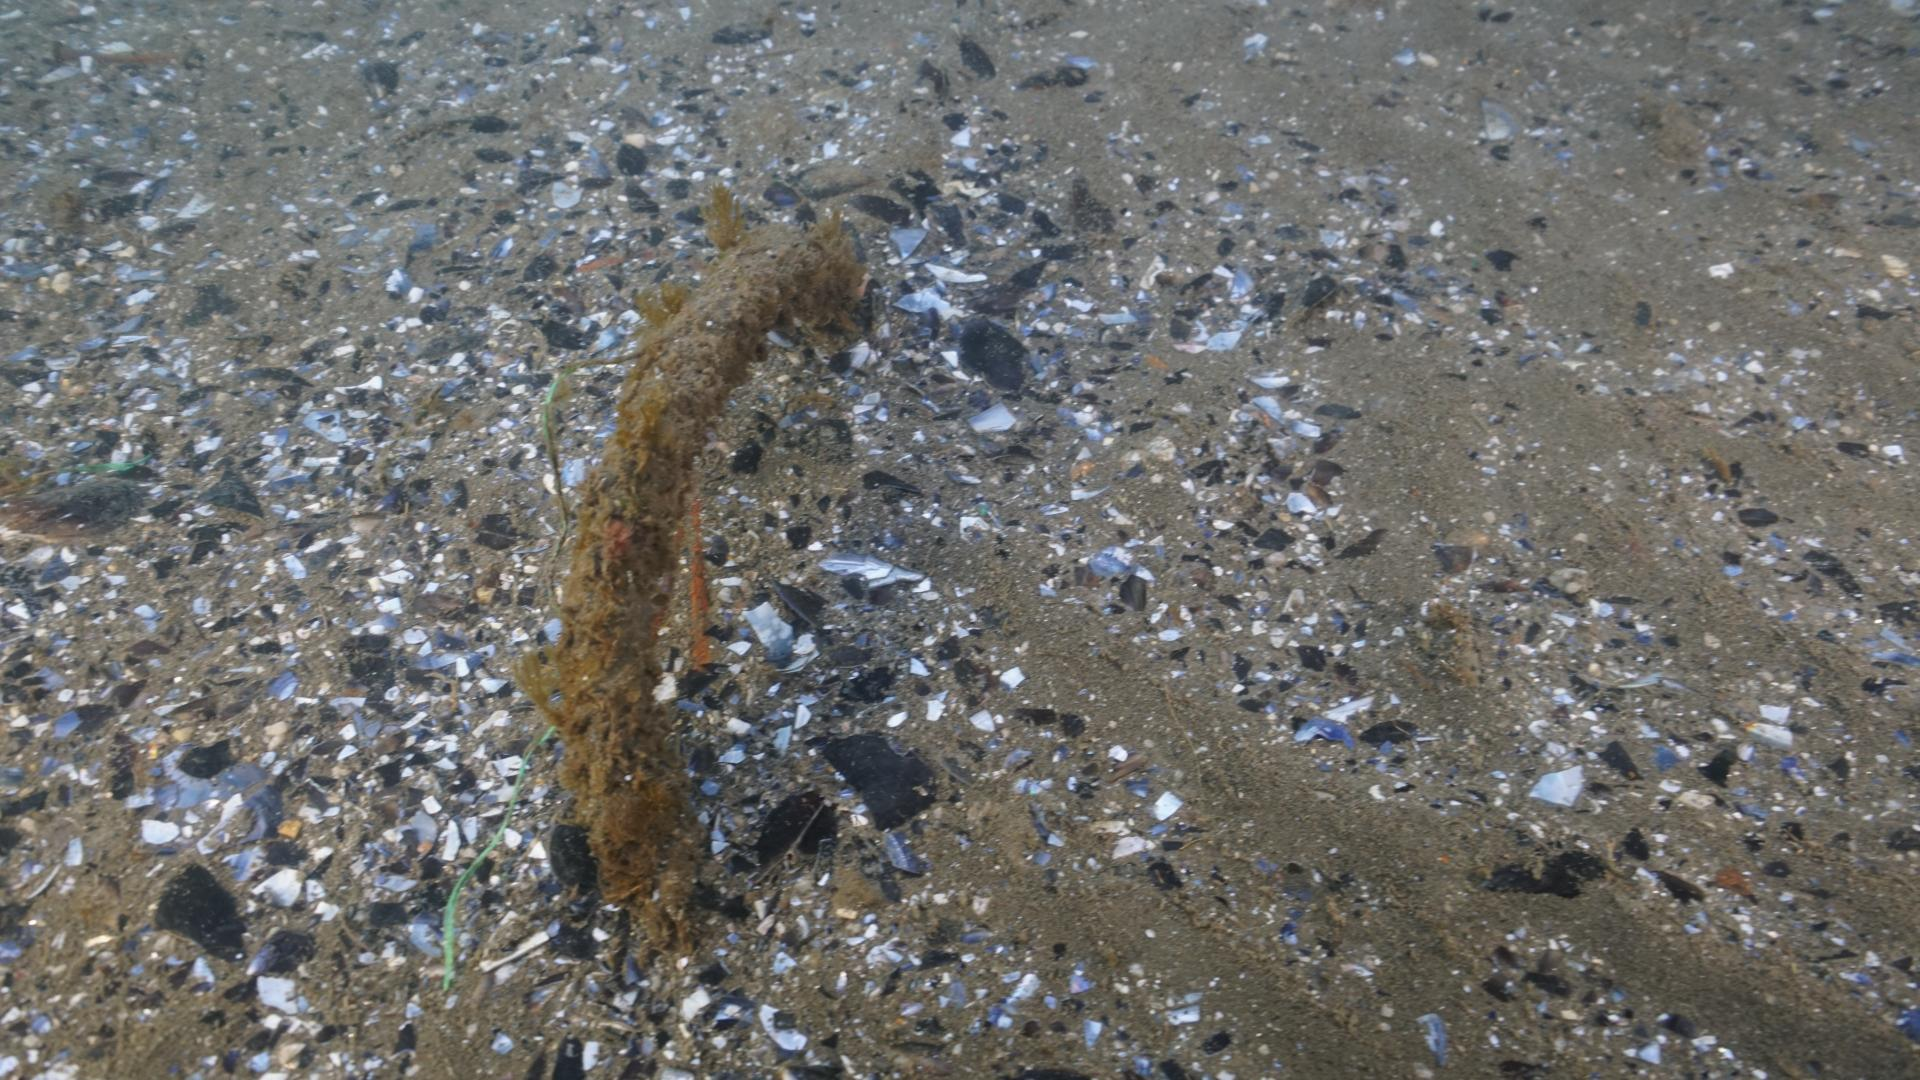rope: (549, 212, 872, 903)
